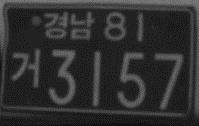1: (86, 51, 108, 106), (131, 12, 152, 41)
3: (48, 49, 77, 105)
5: (117, 51, 146, 108)
7: (152, 52, 185, 110)
8: (103, 12, 126, 40)
거: (11, 47, 40, 87)
경남_O: (42, 10, 94, 40)
